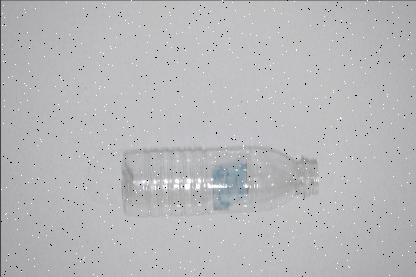Plastic Bottle: (121, 148, 318, 217)
